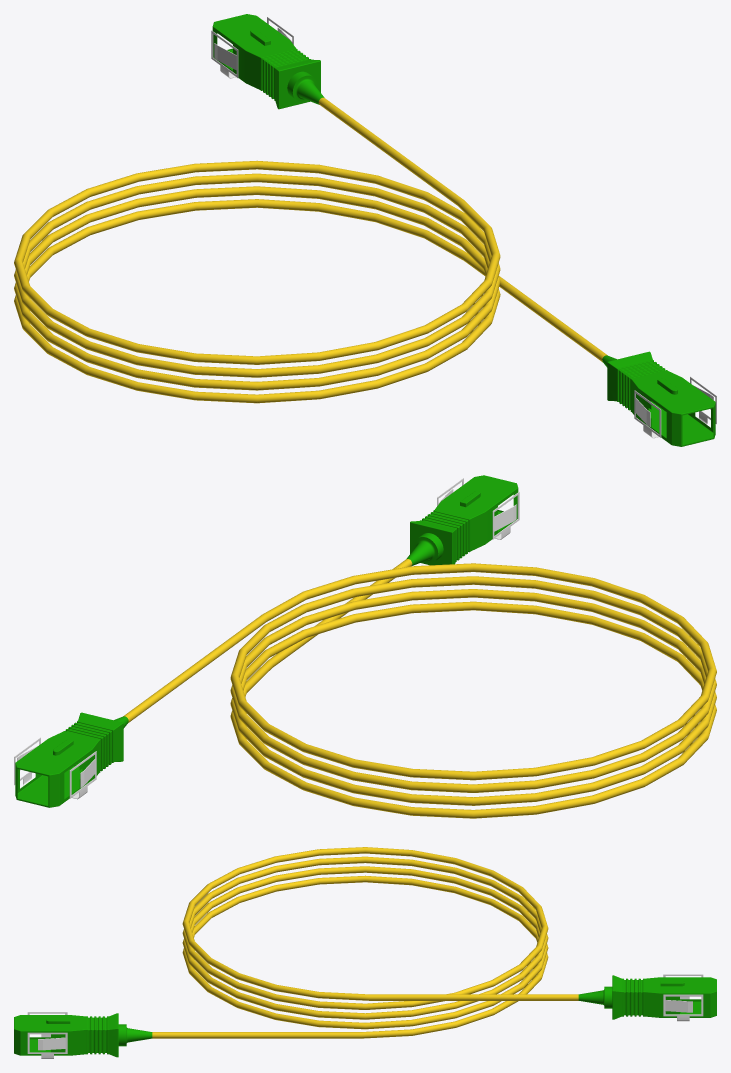
3 views of the same model, one above another, from view 1: azimuth 30°, elevation 25°; view 2: azimuth 150°, elevation 25°; view 3: azimuth 270°, elevation 25° (orthographic). The views are drawn at different scales.
Visible parts, largest first — view 1: Spiral.001, Out.001, Out.003, Plane.001, Plane.008, Cylinder.004; view 2: Spiral.001, Out.003, Out.001, Plane.008, Plane.001, Cylinder.001; view 3: Spiral.001, Out.003, Out.001, Plane.008, Plane.001, Cylinder.004, Cylinder.001.
Boxes of the visible parts, <box> form: Spiral.001: <box>14,97,607,403</box>; Out.001: <box>607,351,715,446</box>; Out.003: <box>212,14,320,109</box>; Plane.001: <box>634,376,716,438</box>; Plane.008: <box>211,17,293,78</box>; Cylinder.004: <box>287,71,324,104</box>; Spiral.001: <box>123,559,716,818</box>; Out.003: <box>15,712,123,807</box>; Out.001: <box>410,475,518,565</box>; Plane.008: <box>14,737,96,799</box>; Plane.001: <box>437,478,519,539</box>; Cylinder.001: <box>406,533,443,565</box>; Spiral.001: <box>152,847,578,1038</box>; Out.003: <box>612,975,716,1019</box>; Out.001: <box>14,1013,118,1057</box>; Plane.008: <box>663,974,703,1021</box>; Plane.001: <box>27,1012,67,1058</box>; Cylinder.004: <box>578,986,612,1008</box>; Cylinder.001: <box>118,1024,152,1046</box>.
Size of the model in its own units: 1.9 by 0.3628 by 3.42.
